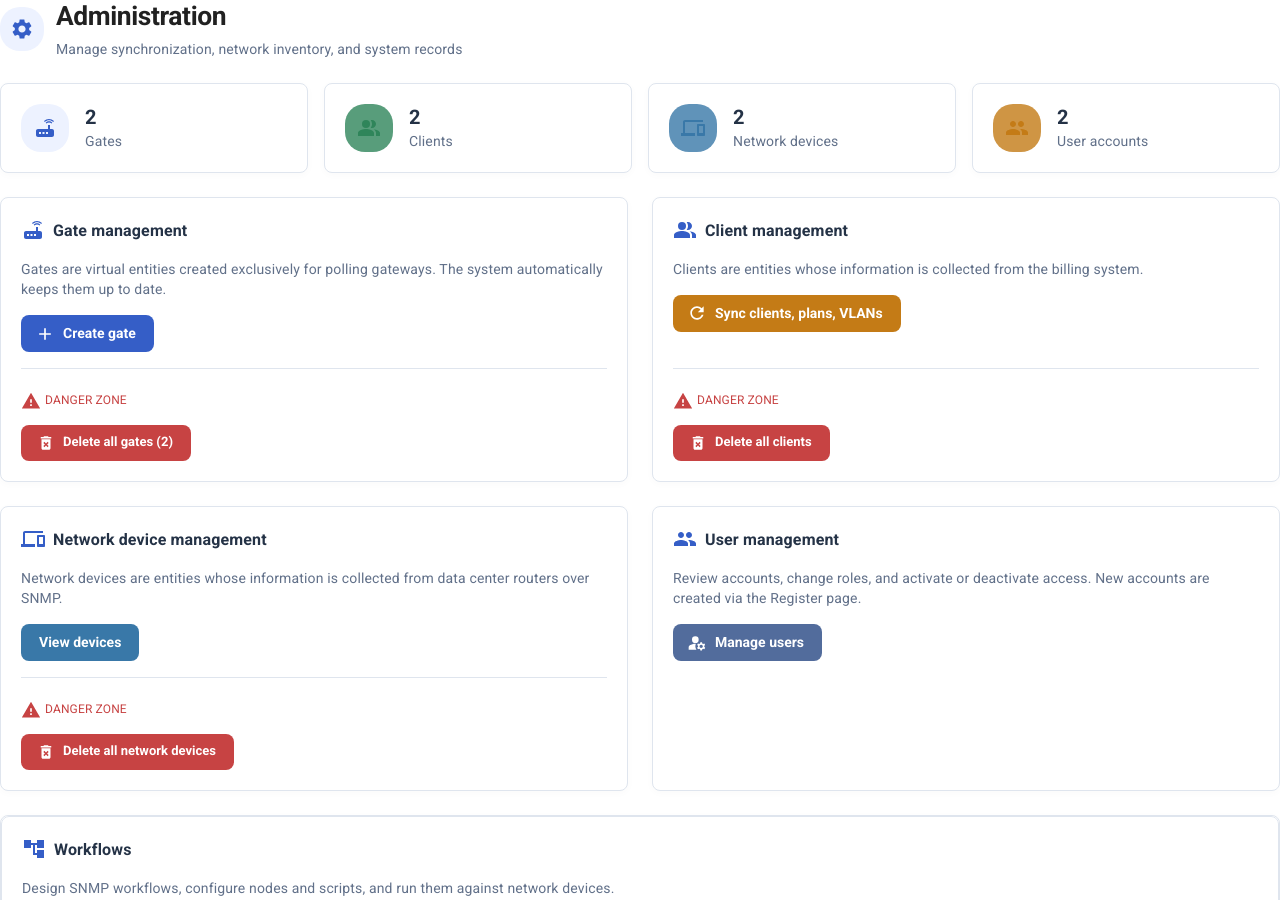
Test: administrative operations › never deletes clients after dismissing confirmation
The image size is (1280, 900).
What coordinates should you click on to do the following:
click the button "Delete all clients"
I would click on:
 (751, 443)
Its box is x1=673 y1=425 x2=830 y2=461.
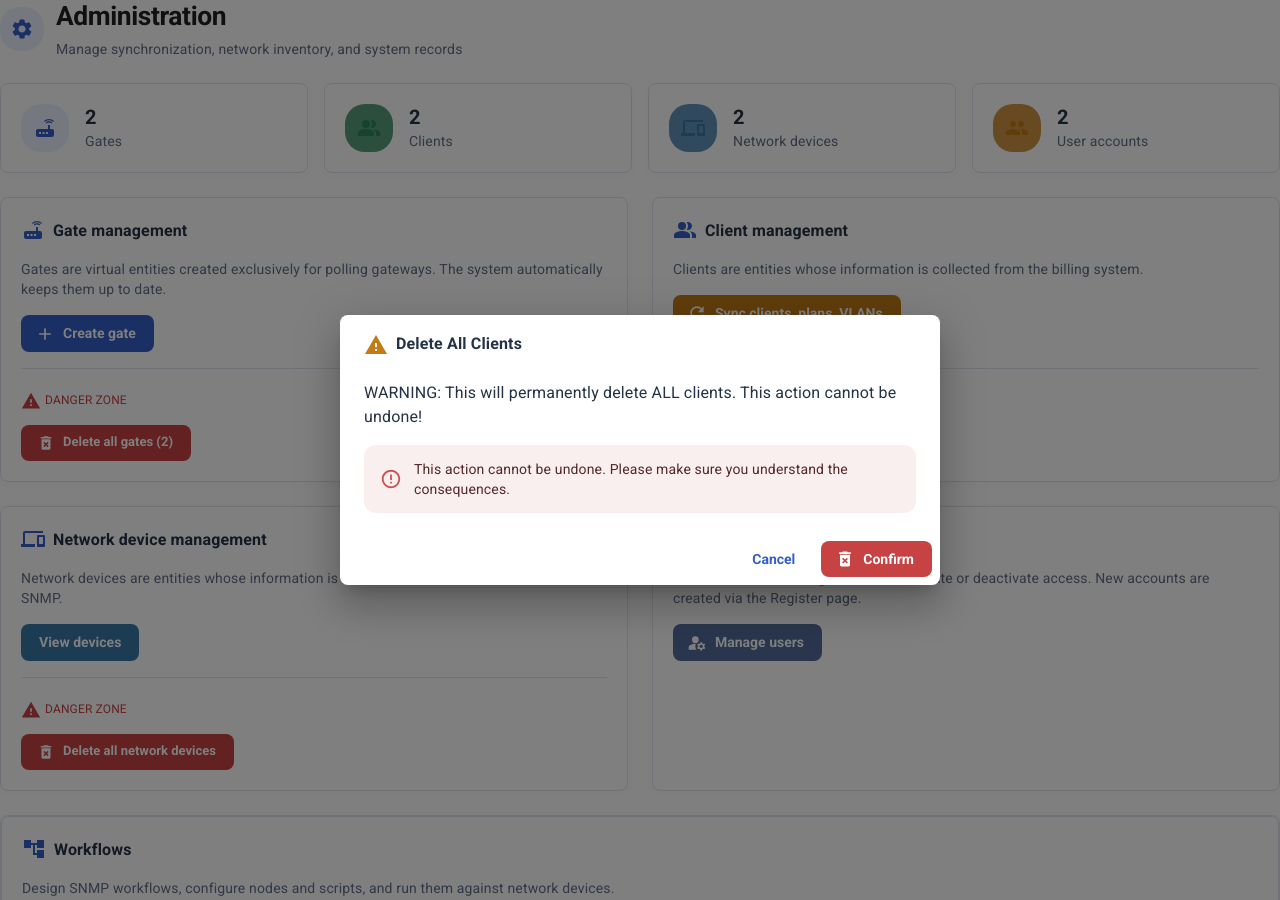
What coordinates should you click on to do the following:
click the button "Cancel"
I would click on:
 (774, 559)
Its box is x1=734 y1=541 x2=813 y2=577.
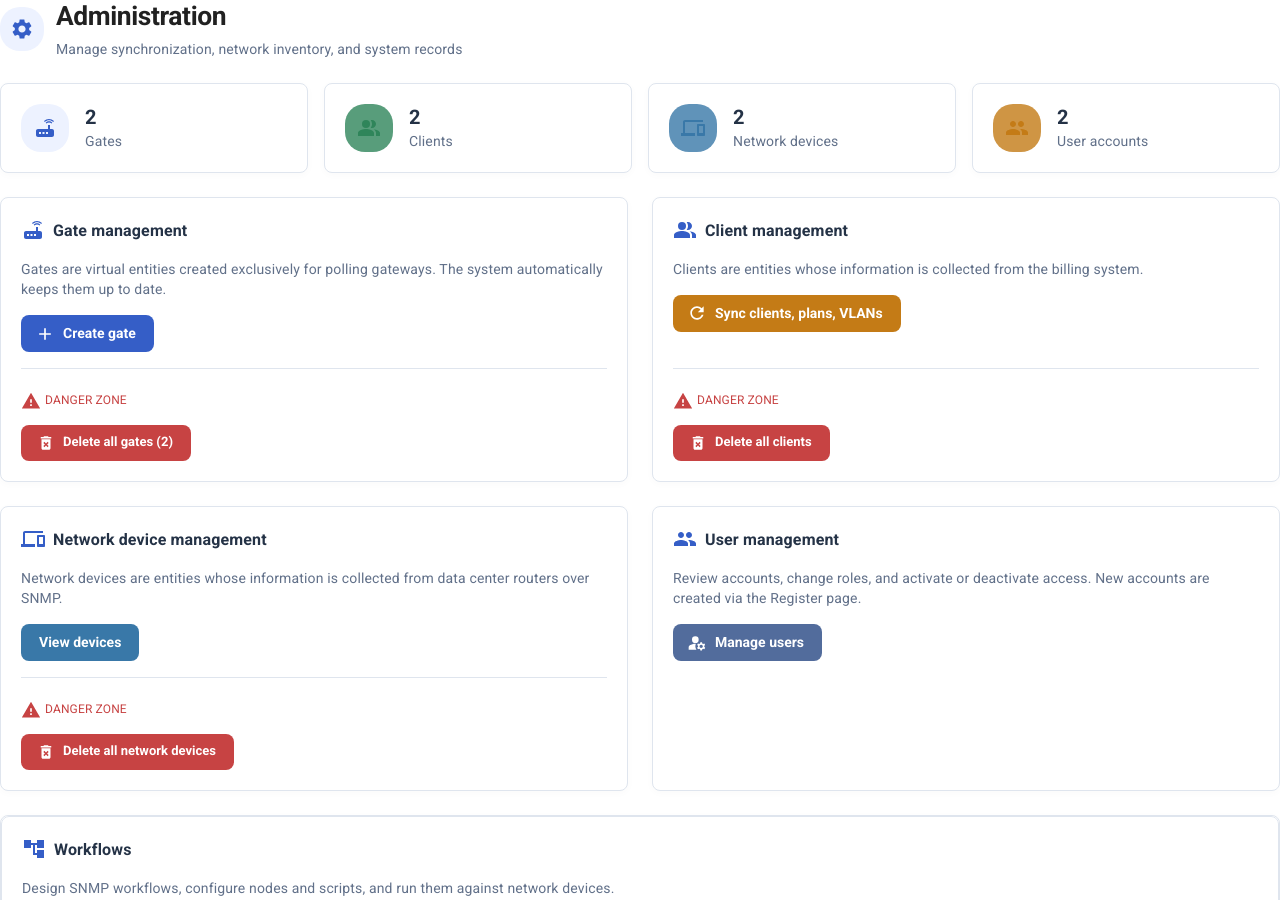
Now the dialog is gone
